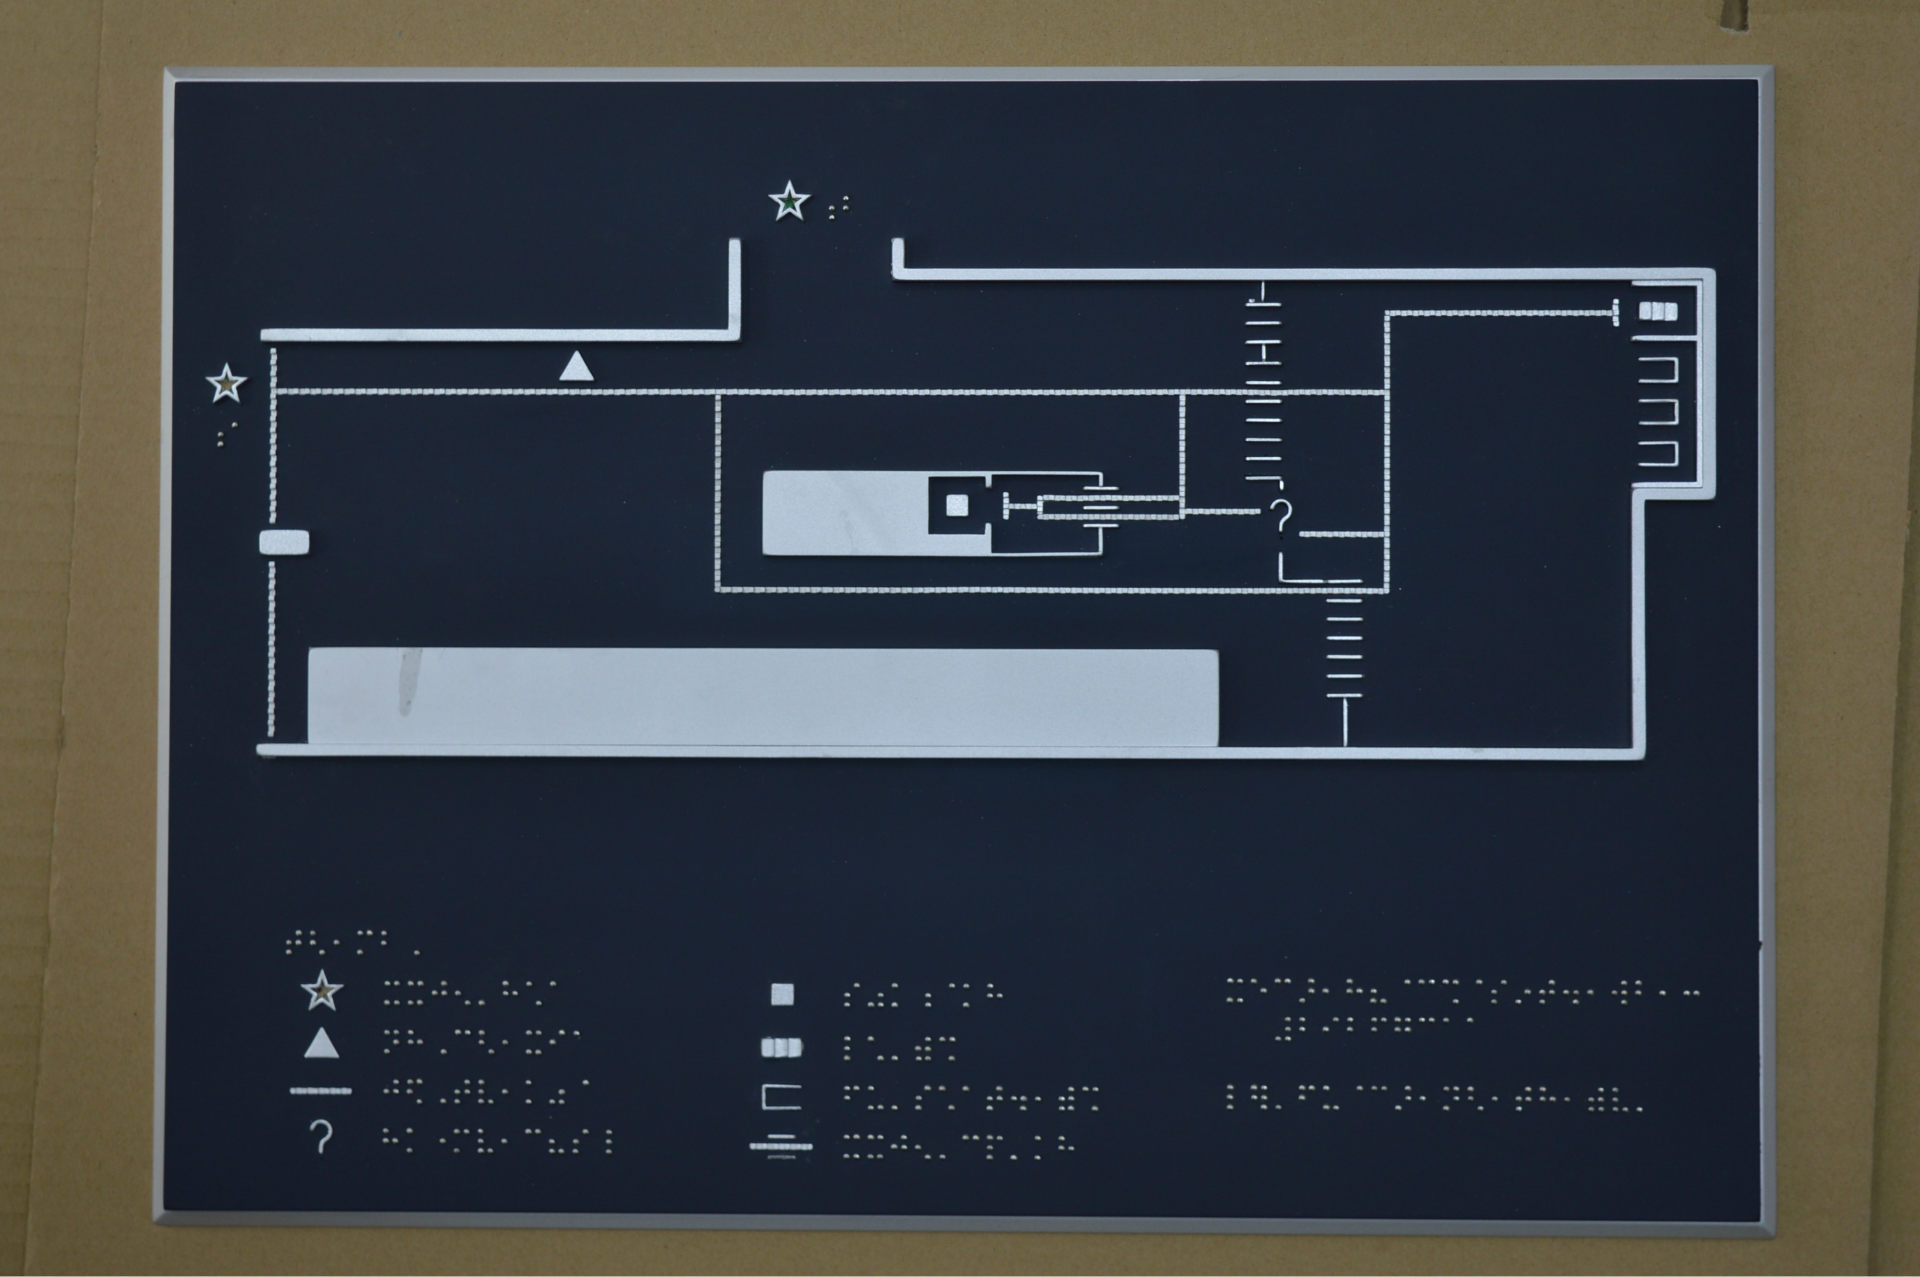Braille: (812, 191, 837, 222), (547, 978, 570, 1009), (204, 418, 225, 450), (401, 928, 423, 958), (573, 1028, 596, 1058), (284, 926, 305, 958), (379, 928, 401, 959), (331, 929, 353, 958), (1633, 1086, 1656, 1115), (841, 192, 862, 222), (429, 978, 450, 1008), (500, 1127, 522, 1157), (841, 1033, 862, 1063), (1080, 1085, 1102, 1115), (865, 1132, 887, 1162), (1346, 1015, 1367, 1045), (500, 978, 520, 1009), (452, 1026, 472, 1058), (428, 1076, 448, 1107), (1033, 1083, 1053, 1115), (1346, 975, 1366, 1006), (1635, 976, 1655, 1008), (1321, 1013, 1341, 1045), (1368, 1015, 1388, 1046), (569, 1077, 590, 1106), (985, 1085, 1006, 1113), (1393, 978, 1414, 1006), (1441, 978, 1462, 1006), (1344, 1083, 1366, 1112), (229, 418, 249, 448), (308, 928, 328, 958), (382, 978, 402, 1008), (525, 978, 544, 1008), (429, 1028, 449, 1058), (547, 1028, 567, 1058), (547, 1077, 567, 1107), (428, 1126, 448, 1156), (475, 1126, 495, 1156), (842, 981, 862, 1010), (889, 1132, 909, 1162), (961, 1132, 981, 1162), (1033, 1132, 1053, 1162), (1224, 975, 1244, 1005), (1368, 976, 1388, 1006), (1299, 1015, 1318, 1045), (1393, 1015, 1413, 1045), (1441, 1015, 1461, 1045), (1224, 1082, 1244, 1112), (1297, 1082, 1317, 1112), (1441, 1083, 1461, 1113), (1490, 1085, 1509, 1115), (1512, 1083, 1532, 1113), (1562, 1085, 1582, 1115), (1586, 1085, 1606, 1115), (1611, 1085, 1631, 1115), (1394, 1082, 1413, 1113), (1420, 1082, 1438, 1113), (405, 1127, 426, 1154), (1006, 1134, 1028, 1162), (355, 928, 375, 956), (476, 981, 496, 1009), (525, 1028, 544, 1056), (499, 1077, 519, 1106), (525, 1077, 544, 1106), (452, 1126, 472, 1154), (525, 1126, 544, 1154), (547, 1126, 567, 1154), (867, 982, 887, 1010), (889, 982, 909, 1010), (936, 981, 956, 1009), (889, 1035, 909, 1063), (914, 1035, 934, 1063), (938, 1035, 958, 1063), (867, 1083, 887, 1112), (914, 1133, 934, 1162), (939, 1133, 959, 1162), (1417, 978, 1437, 1006), (1490, 978, 1509, 1006), (1561, 978, 1581, 1006), (1611, 978, 1631, 1006), (1370, 1083, 1390, 1112), (1274, 1080, 1291, 1113), (478, 1028, 496, 1058), (382, 1076, 401, 1106), (406, 1076, 425, 1106), (914, 1083, 932, 1113), (842, 1132, 861, 1162), (1058, 1133, 1076, 1163), (1538, 976, 1557, 1006), (1586, 978, 1605, 1008), (1659, 978, 1678, 1008), (1273, 1015, 1291, 1045), (1418, 1015, 1437, 1045), (1323, 1083, 1341, 1113), (1467, 1083, 1485, 1113), (455, 981, 475, 1008), (500, 1029, 520, 1056), (381, 1127, 401, 1154), (962, 982, 982, 1009), (842, 1085, 862, 1112), (1320, 978, 1340, 1005), (406, 979, 425, 1008), (383, 1028, 402, 1056), (453, 1077, 472, 1106), (478, 1077, 496, 1106), (572, 1127, 590, 1156), (594, 1127, 613, 1156), (914, 982, 932, 1010), (986, 981, 1005, 1009), (867, 1035, 885, 1063), (936, 1083, 955, 1112), (1011, 1085, 1029, 1113), (1250, 976, 1269, 1005), (1274, 976, 1293, 1005), (1297, 976, 1316, 1005), (1465, 1016, 1484, 1045), (1250, 1083, 1269, 1112), (1538, 1085, 1557, 1113), (1058, 1083, 1075, 1113), (1515, 978, 1532, 1008), (1683, 978, 1700, 1008), (891, 1085, 909, 1112), (962, 1085, 981, 1112), (406, 1028, 423, 1056), (986, 1133, 1003, 1162), (1465, 978, 1482, 1005)
